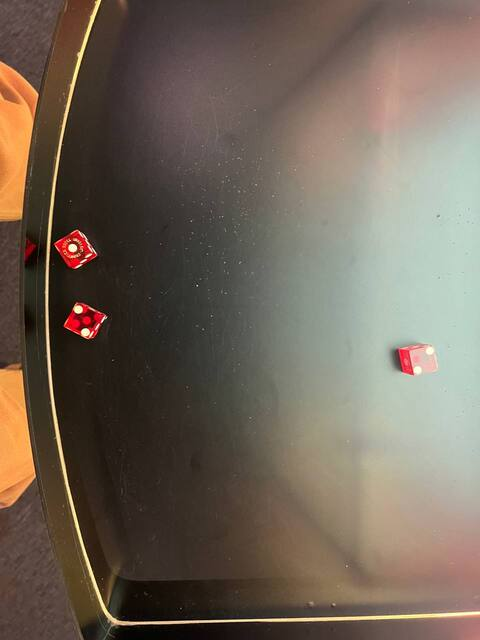one: (54, 231, 91, 266)
two: (60, 298, 104, 340), (405, 342, 440, 379)
